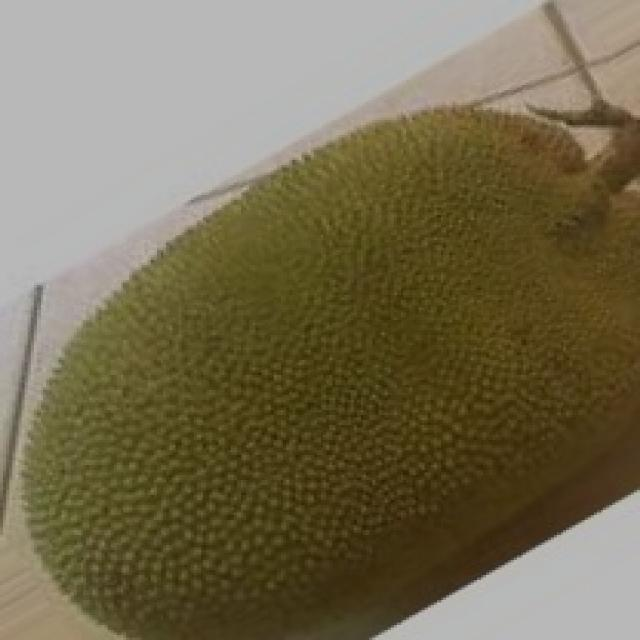Fruit: (0, 265, 385, 640), (206, 85, 634, 355)
